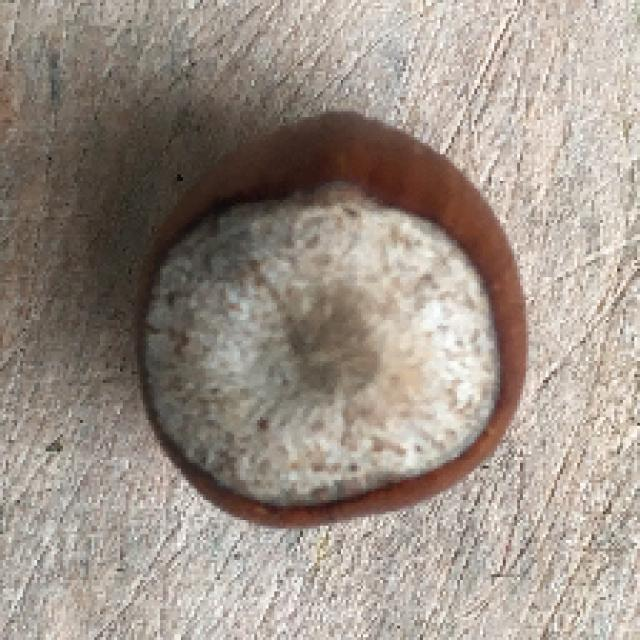hazelnut: (140, 100, 532, 529)
